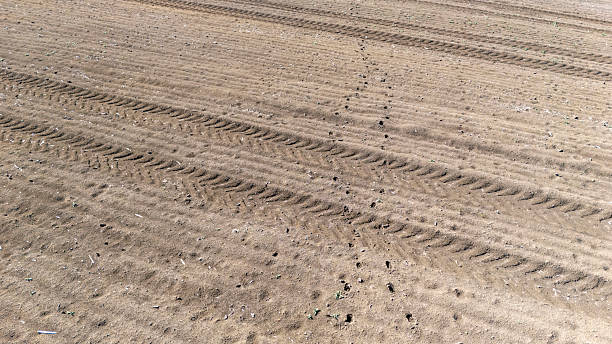vehicle_track: (0, 114, 608, 296), (0, 70, 611, 221), (130, 0, 611, 80), (231, 0, 611, 63), (405, 0, 611, 32), (456, 0, 611, 24)
